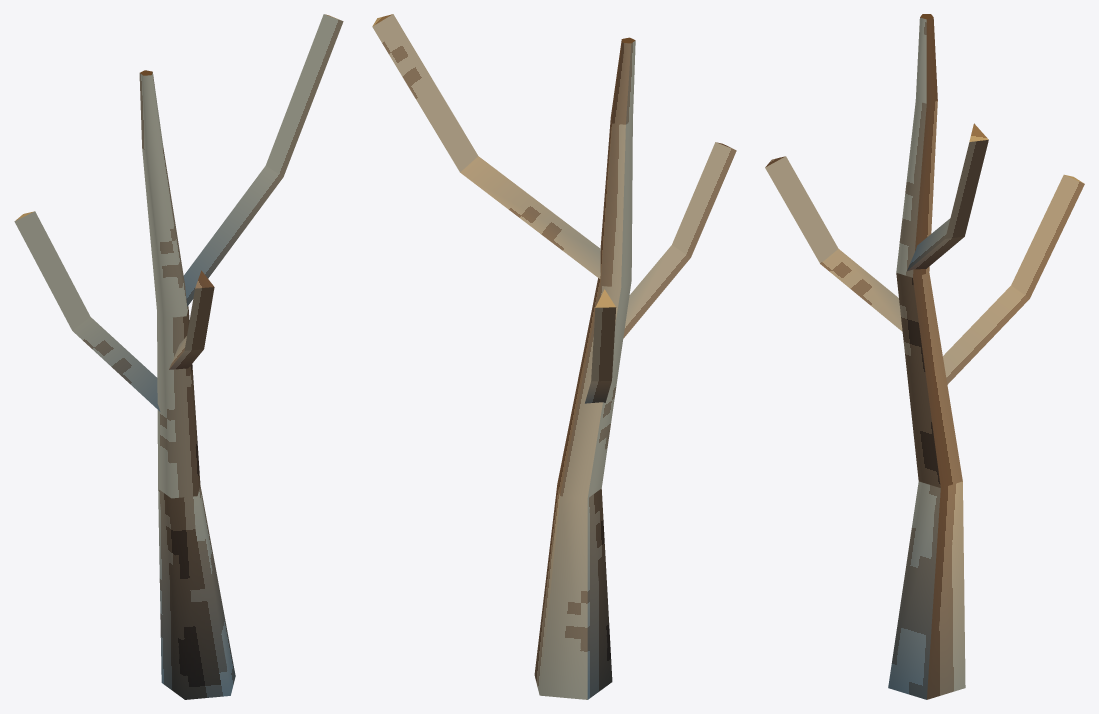
The model's file is wland.dead_tree__small.glb.
3 renders of one model, left to right at view 1: azimuth 30°, elevation 25°; view 2: azimuth 150°, elevation 25°; view 3: azimuth 270°, elevation 25°, orthographic. The views are drawn at different scales.
Visible parts, largest first — view 1: kit_trunk, kit_branches; view 2: kit_trunk, kit_branches; view 3: kit_trunk, kit_branches.
Part boxes in pixels (x1,y1,x2,y2): kit_trunk: (139,70,235,699); kit_branches: (14,14,343,411); kit_trunk: (534,37,635,699); kit_branches: (372,14,736,403); kit_trunk: (888,14,965,699); kit_branches: (765,123,1084,384).
Size of the model in its own units: 1.17 by 2.52 by 1.14.
1 material, 1 textured.
